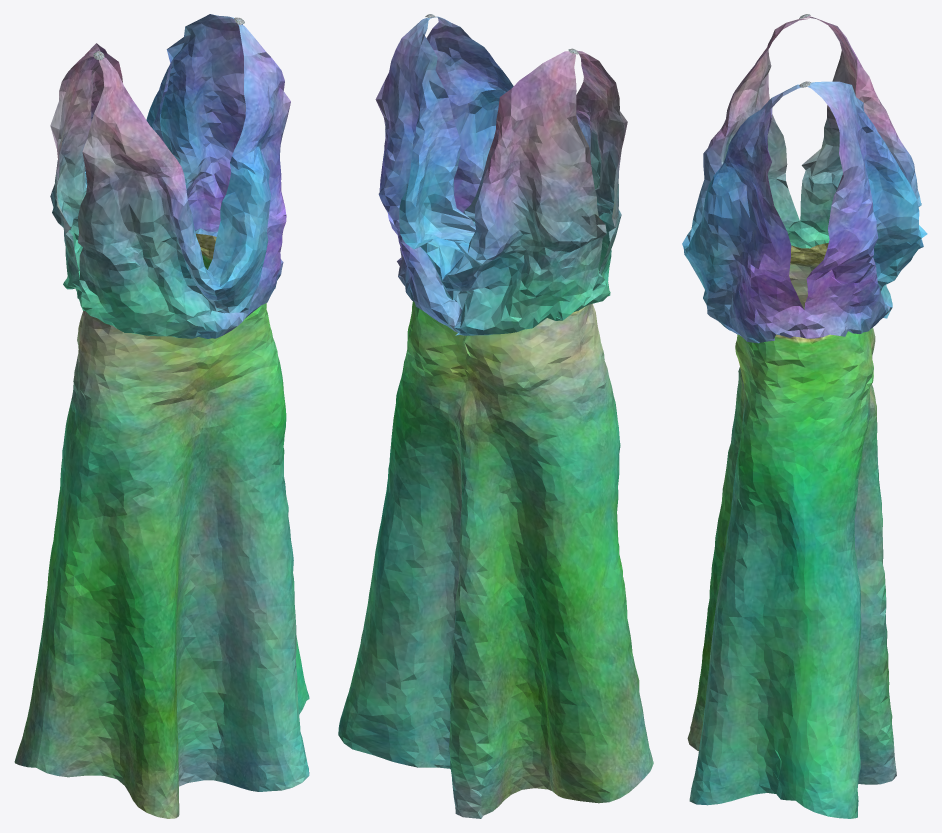
Rendered from mhw_elvs_goddess_dress2.glb.
The picture shows the model from 3 angles, left to right: view 1: azimuth 30°, elevation 25°; view 2: azimuth 150°, elevation 25°; view 3: azimuth 270°, elevation 25°; orthographic projection. The views are drawn at different scales.
Parts seen in each view (by area): view 1: mhw_elvs_goddess_dress2; view 2: mhw_elvs_goddess_dress2; view 3: mhw_elvs_goddess_dress2.
Boxes of the visible parts, box(x1,y1,x2,y2) form: mhw_elvs_goddess_dress2: box(14, 14, 309, 818); mhw_elvs_goddess_dress2: box(338, 14, 653, 818); mhw_elvs_goddess_dress2: box(682, 14, 927, 818).
Bounding box in the file's own units: 0.6355 × 1.54 × 0.4689.
Materials: 1 (1 with a texture image).
